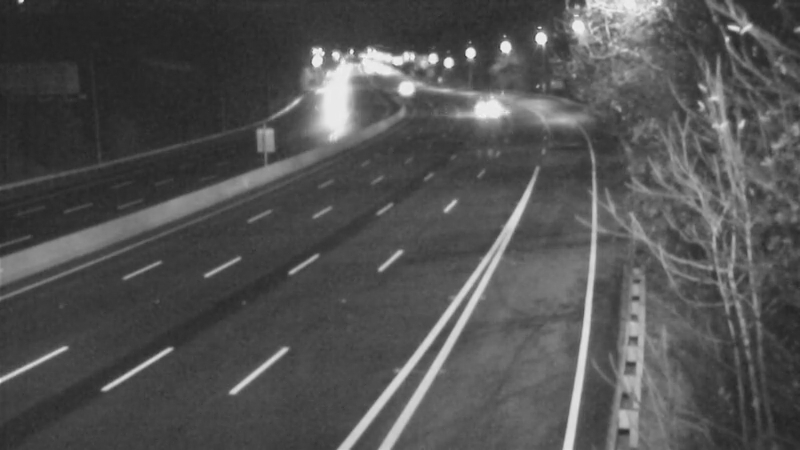vehicle: (375, 63, 425, 113), (460, 82, 510, 132), (301, 77, 351, 127)
